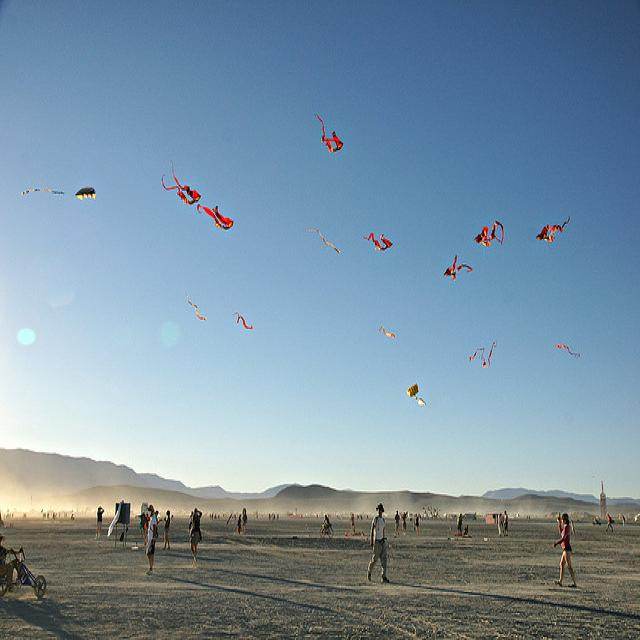motor: (0, 549, 49, 599), (320, 524, 334, 539)
